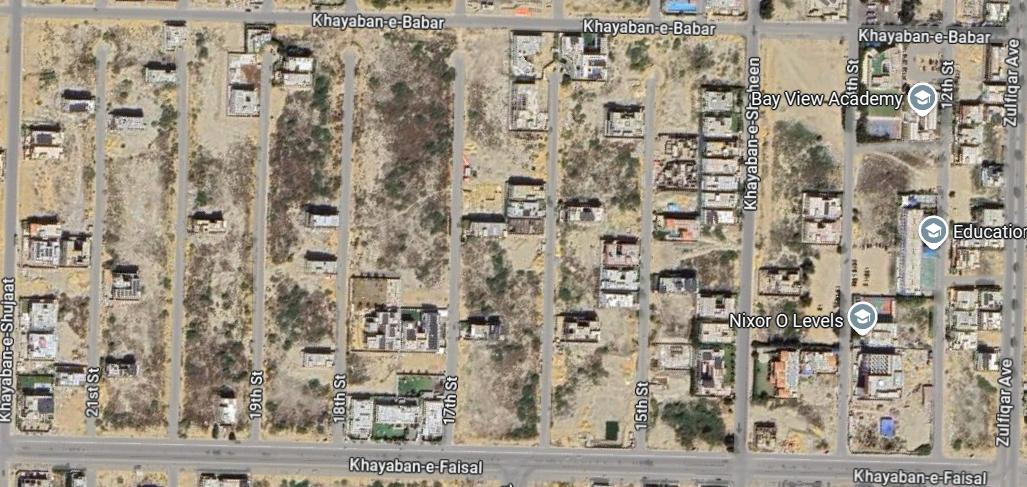Buildings: (348, 30, 456, 443), (648, 34, 740, 452), (750, 38, 843, 451), (459, 27, 546, 443), (553, 35, 641, 443), (94, 19, 175, 436), (263, 24, 344, 437), (181, 22, 261, 439), (15, 18, 95, 431), (851, 154, 934, 453), (946, 43, 1002, 449), (858, 38, 941, 142)
